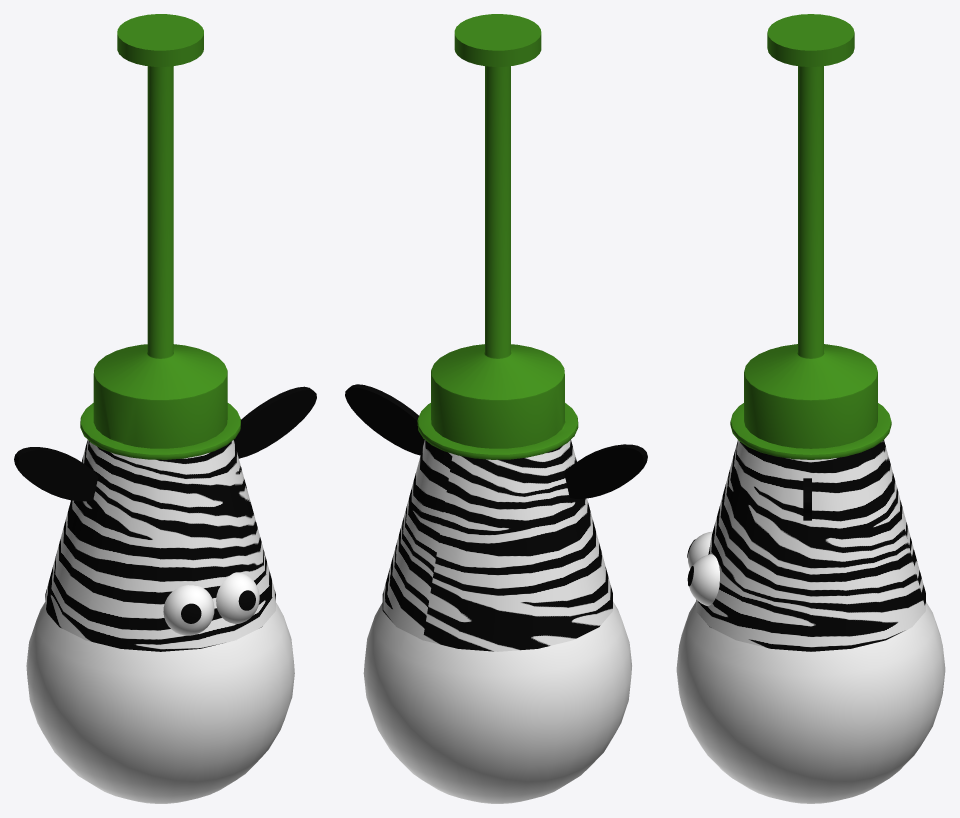
The model's file is Zebra lamp.fbx.
The picture shows the model from 3 angles, left to right: view 1: azimuth 30°, elevation 25°; view 2: azimuth 150°, elevation 25°; view 3: azimuth 270°, elevation 25°; orthographic projection.
Visible parts, largest first — view 1: Zebra lamp; view 2: Zebra lamp; view 3: Zebra lamp.
Part boxes in pixels (x1=…): Zebra lamp: x1=14, y1=14, x2=316, y2=803; Zebra lamp: x1=345, y1=14, x2=647, y2=803; Zebra lamp: x1=676, y1=14, x2=945, y2=803.
Bounding box in the file's own units: 25.64 × 62.28 × 20.
Materials: 2 (1 with a texture image).
